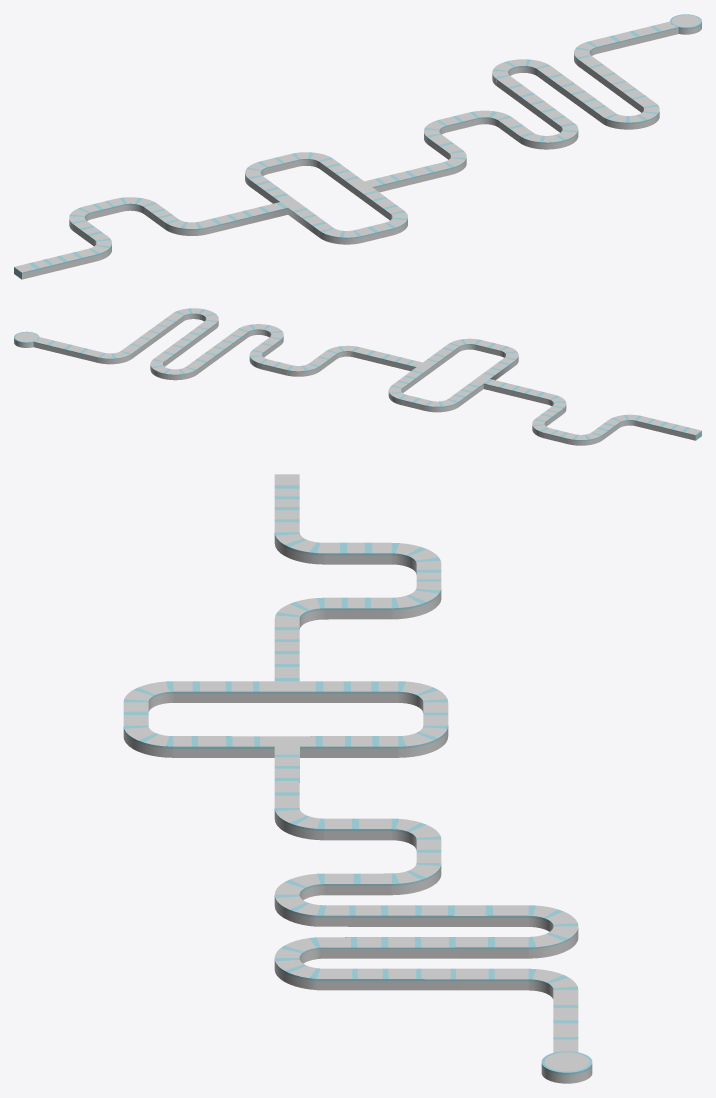
File: Map_1.fbx
3 views of the same model, one above another, from view 1: azimuth 30°, elevation 25°; view 2: azimuth 150°, elevation 25°; view 3: azimuth 270°, elevation 25° (orthographic). The views are drawn at different scales.
Visible parts, largest first — view 1: Map_1; view 2: Map_1; view 3: Map_1.
Boxes of the visible parts, x1,y1,x2,y2 form: Map_1: [14, 14, 701, 279]; Map_1: [14, 308, 701, 445]; Map_1: [123, 474, 592, 1083].
Bounding box in the file's own units: 764 × 6.8 × 253.
